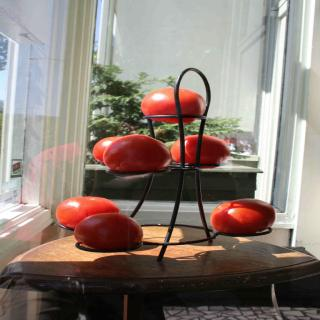tomato: (92, 132, 174, 174), (134, 88, 208, 126), (74, 214, 142, 247), (55, 197, 119, 231), (170, 132, 230, 165), (210, 200, 274, 230)
